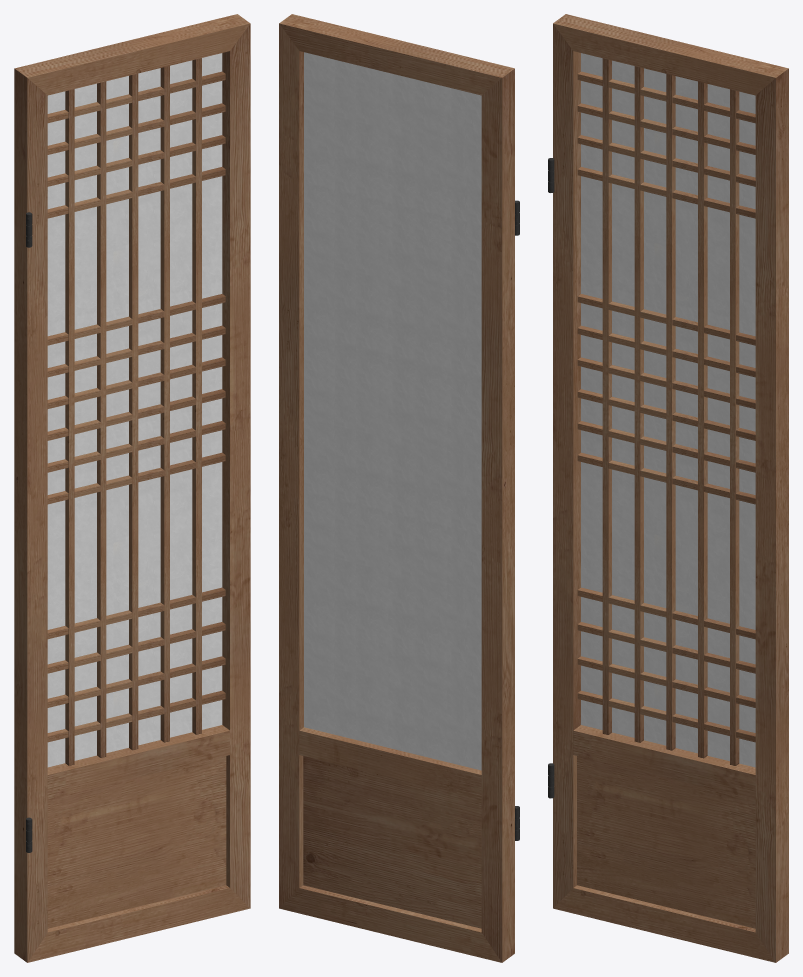
File: SM_Yeonkyung_Sarangchae_Win_C_001.fbx
3 views of the same model, side by side, from view 1: azimuth 30°, elevation 25°; view 2: azimuth 150°, elevation 25°; view 3: azimuth 330°, elevation 25° (orthographic).
Visible parts, largest first — view 1: SM_Yeonkyung_Sarangchae_Win_C_001; view 2: SM_Yeonkyung_Sarangchae_Win_C_001; view 3: SM_Yeonkyung_Sarangchae_Win_C_001.
Part boxes in pixels (bbox=[...]): SM_Yeonkyung_Sarangchae_Win_C_001: bbox=[14, 14, 250, 962]; SM_Yeonkyung_Sarangchae_Win_C_001: bbox=[279, 14, 519, 962]; SM_Yeonkyung_Sarangchae_Win_C_001: bbox=[548, 14, 788, 962].
Size of the model in its own units: 50.36 by 189 by 6.23.
